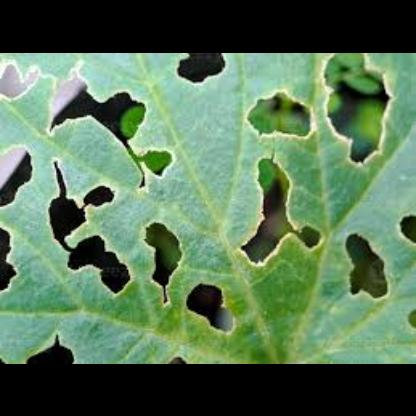agujero: (3, 54, 174, 192), (318, 56, 399, 176), (252, 149, 327, 275), (50, 155, 114, 252), (233, 93, 316, 144), (144, 214, 188, 297), (342, 223, 388, 295), (70, 237, 127, 294), (0, 137, 36, 207), (178, 52, 240, 88), (143, 138, 179, 180), (0, 224, 14, 288), (78, 182, 116, 202), (400, 208, 416, 250), (188, 282, 224, 298)
